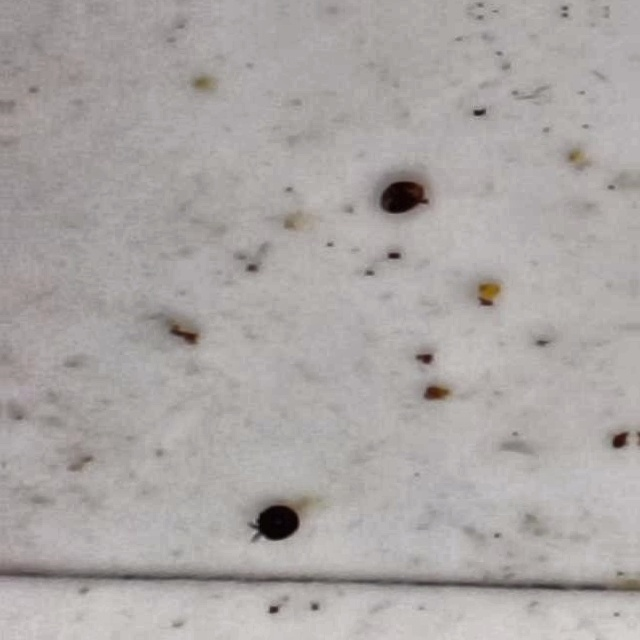varroa: (252, 504, 302, 544), (379, 181, 425, 216)
